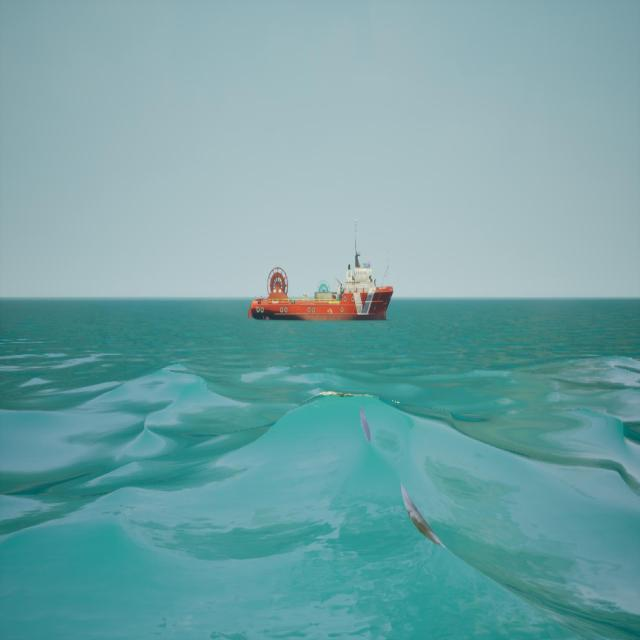tug boat: (249, 218, 396, 324)
